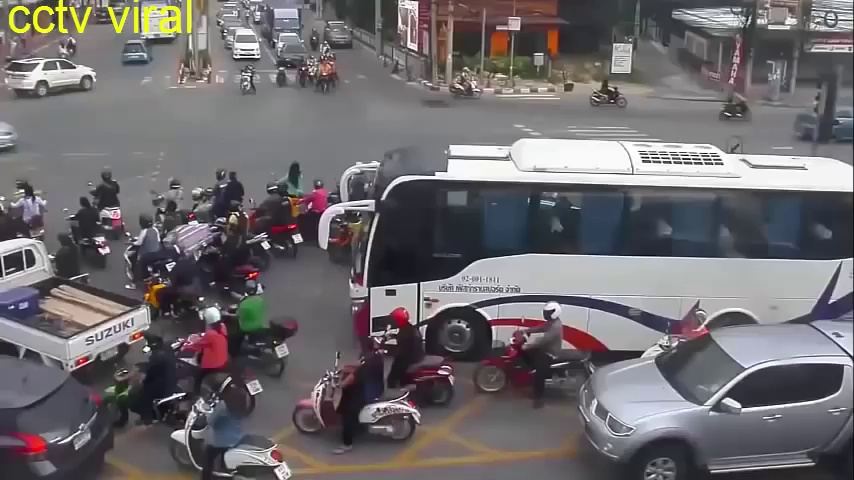car: (355, 150, 848, 370), (577, 323, 854, 470), (1, 239, 152, 375), (1, 348, 118, 480), (5, 55, 98, 102), (232, 30, 260, 61), (280, 43, 311, 71), (325, 21, 353, 48), (121, 41, 149, 61)
motorbike: (294, 338, 418, 446), (168, 376, 294, 480), (476, 300, 594, 410), (161, 310, 261, 419), (97, 333, 191, 441), (353, 314, 455, 408), (203, 283, 291, 376), (207, 202, 271, 271), (202, 224, 259, 301), (146, 249, 200, 321), (125, 216, 175, 293), (252, 181, 299, 259), (285, 179, 334, 243), (68, 198, 107, 269), (12, 179, 50, 247), (196, 170, 244, 223), (87, 170, 123, 236), (719, 86, 752, 125), (451, 67, 483, 104), (591, 79, 625, 109), (275, 56, 289, 90), (241, 63, 255, 93), (316, 57, 329, 89), (297, 61, 307, 91)
